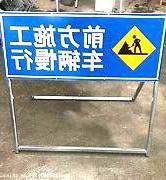sign: (1, 14, 166, 80)
